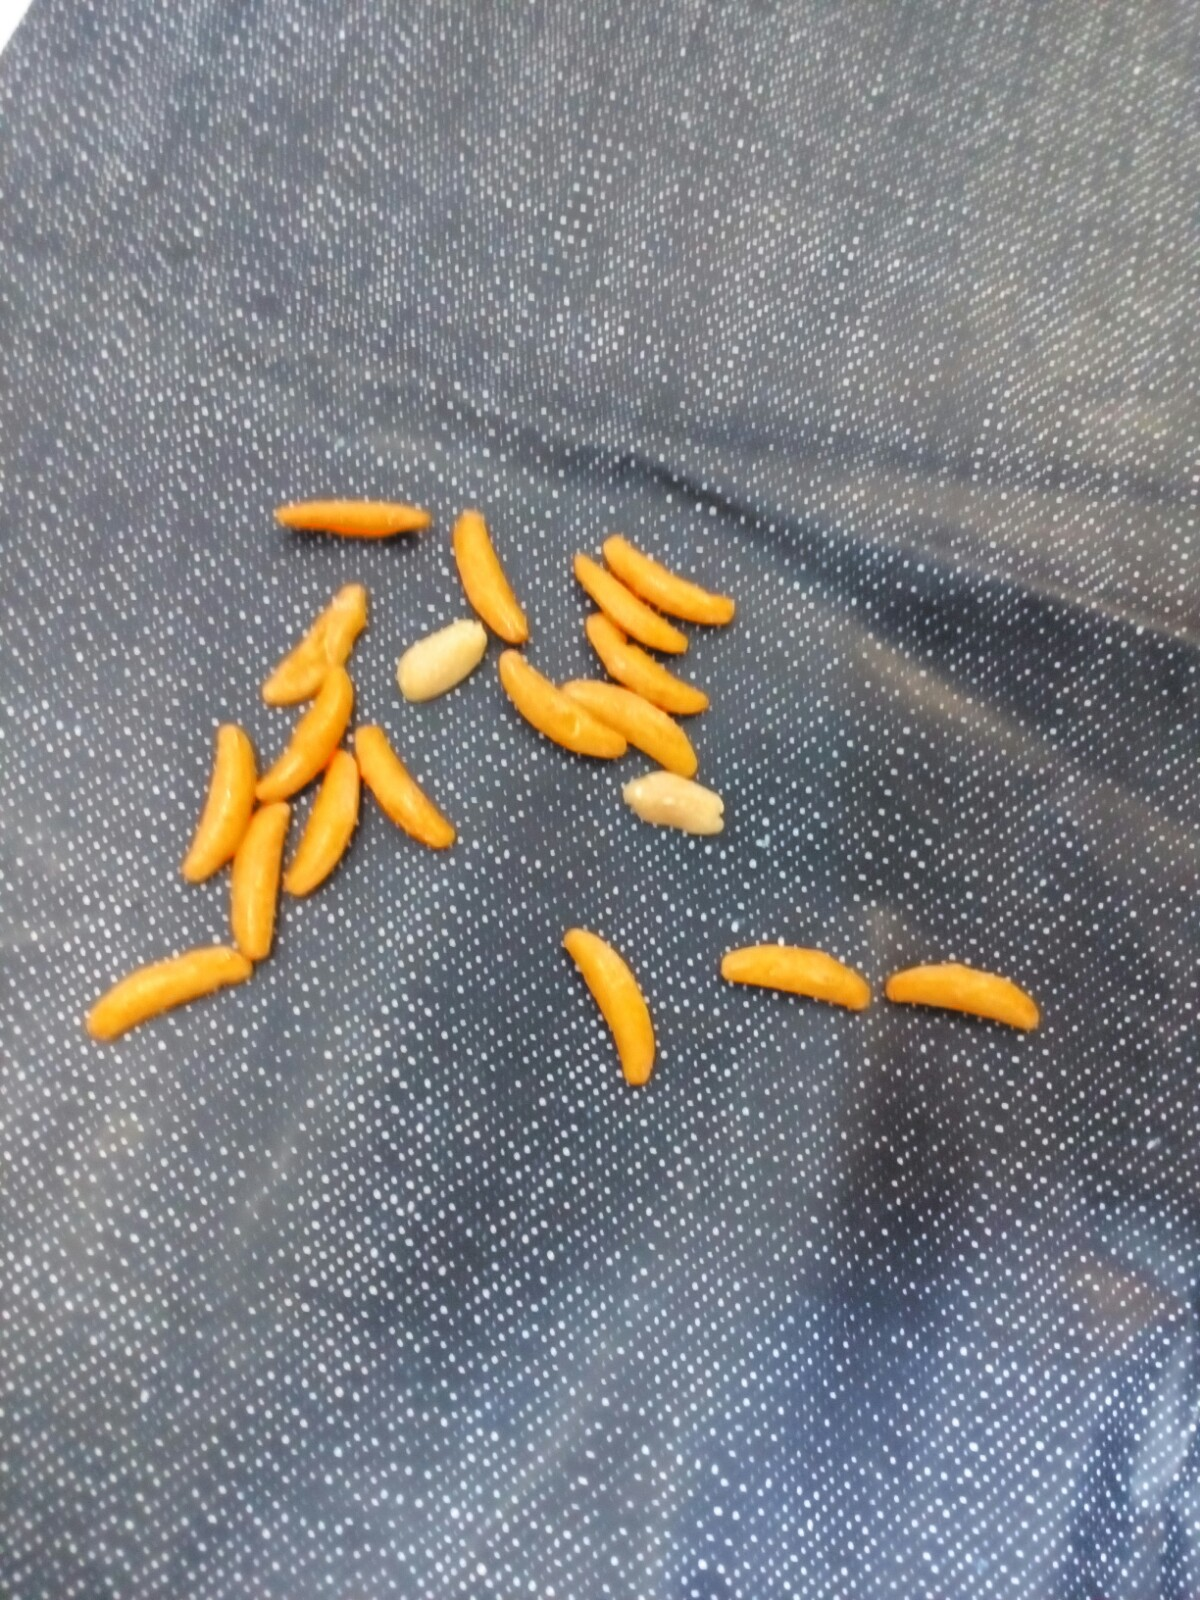peanut: (388, 610, 503, 704), (624, 767, 731, 838)
